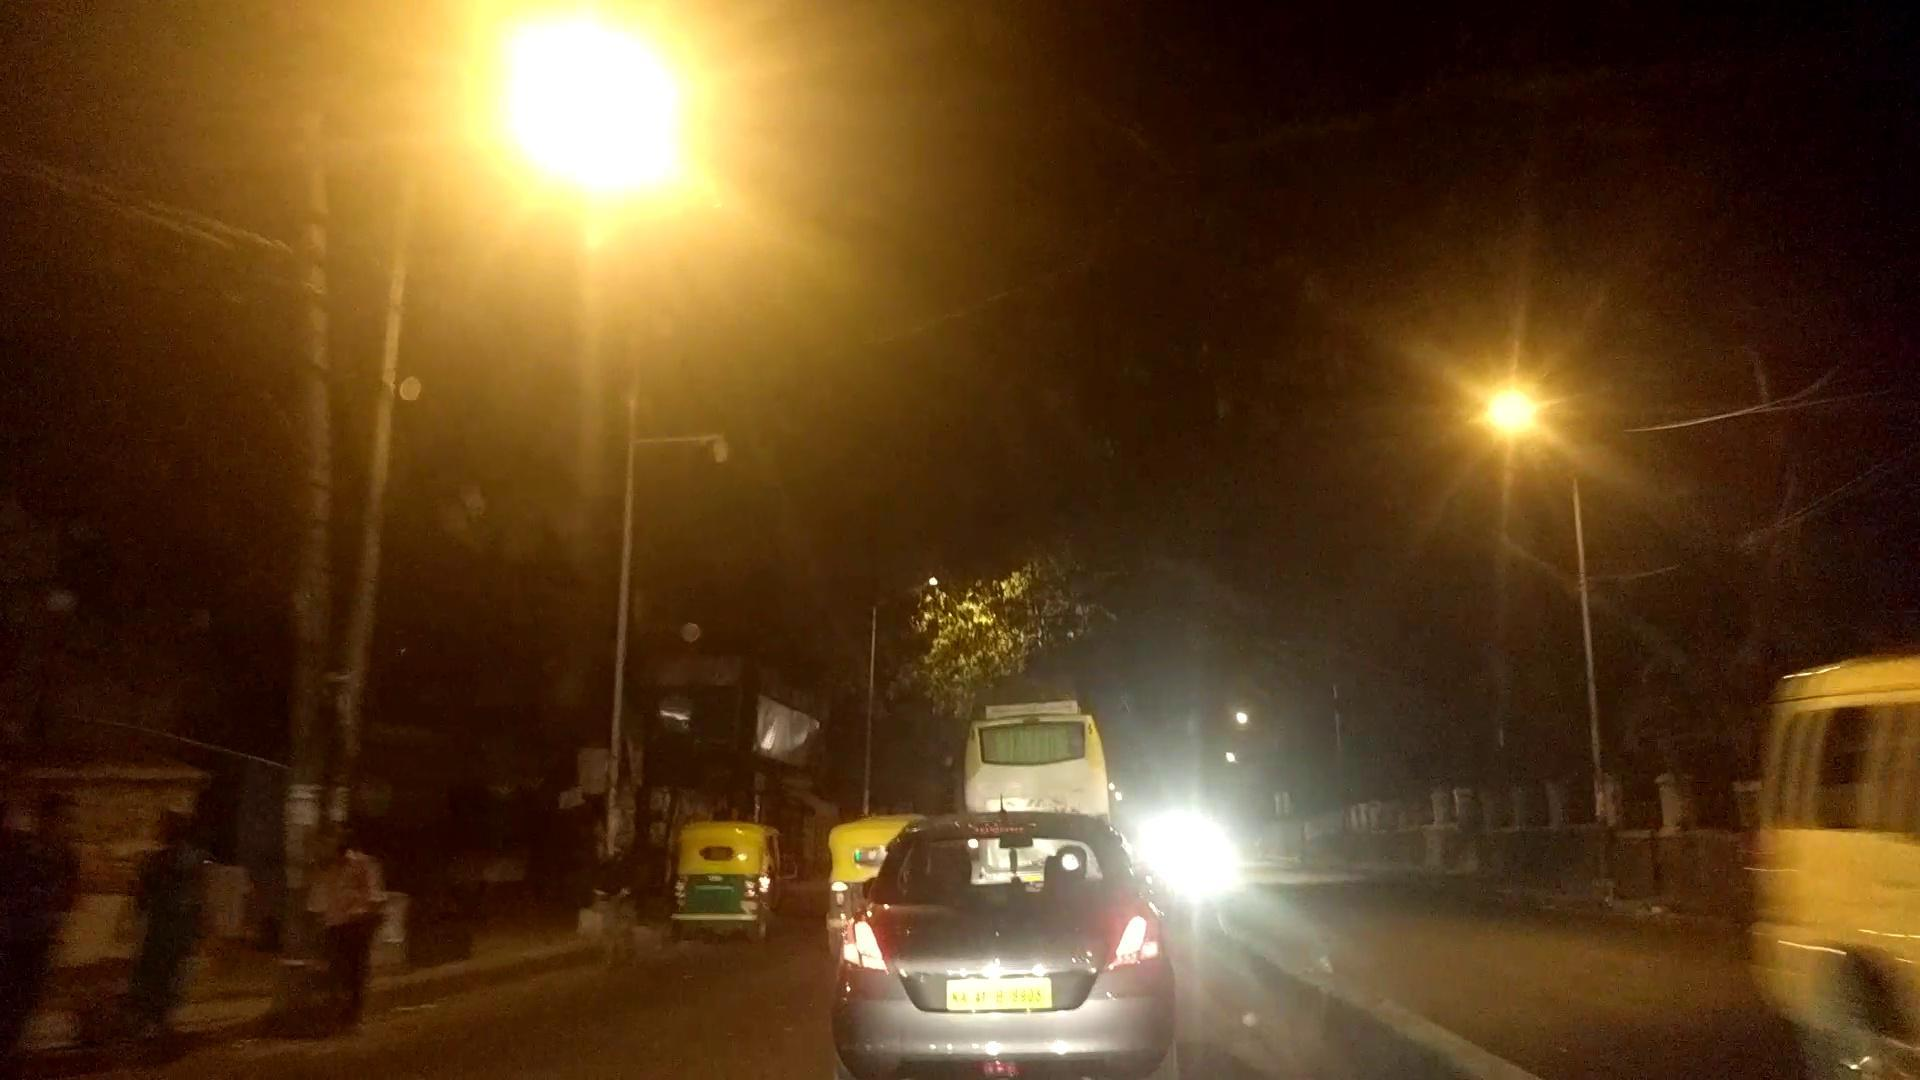on: (190, 0, 1031, 363), (1300, 232, 1783, 675)
